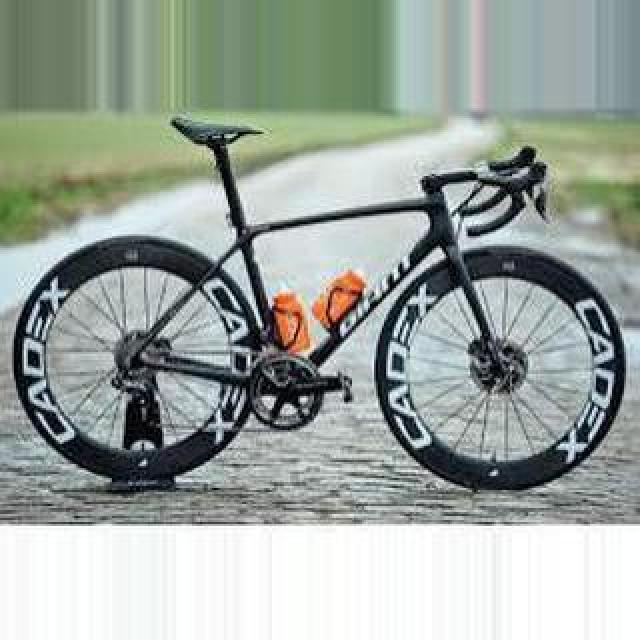Person: (9, 115, 631, 495)
